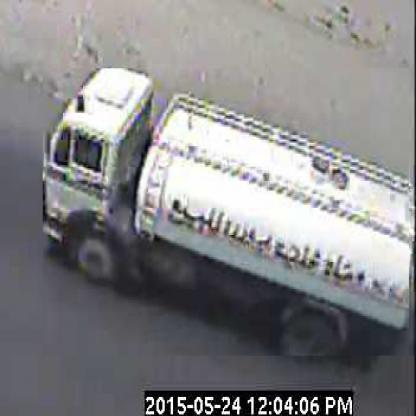truck: (44, 70, 411, 359)
